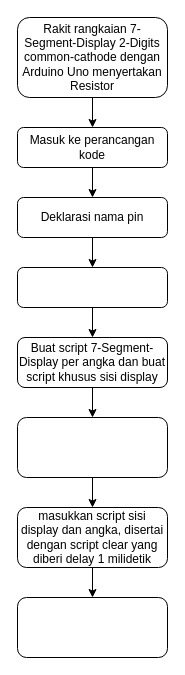
The diagram is 185 pixels wide and 675 high, and some of its shapes have lost their labels. The shapes that lost their labels are listed below. From the top down, each one's centre as x and y in pixels, then its label:
(92,287): Deklarasi mode pin
(92,447): Buat for loop dari 0 sampai kurang dari 500, dengan perulangan tambah 1
(92,627): Ulangi dari 20 sampai 0
